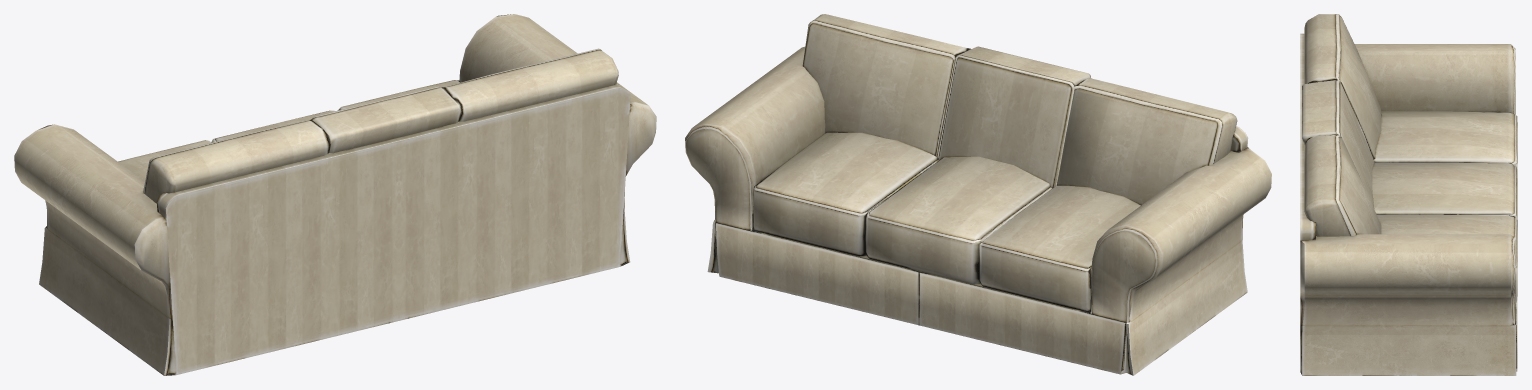
File: Sofa05.FBX
3 renders of one model, left to right at view 1: azimuth 30°, elevation 25°; view 2: azimuth 150°, elevation 25°; view 3: azimuth 270°, elevation 25°, orthographic. The views are drawn at different scales.
Visible parts, largest first — view 1: Sofa05; view 2: Sofa05; view 3: Sofa05.
Boxes of the visible parts, x1,y1,x2,y2 form: Sofa05: [14, 14, 656, 375]; Sofa05: [685, 14, 1271, 375]; Sofa05: [1300, 14, 1517, 375].
Bounding box in the file's own units: 341 × 127 × 144.
